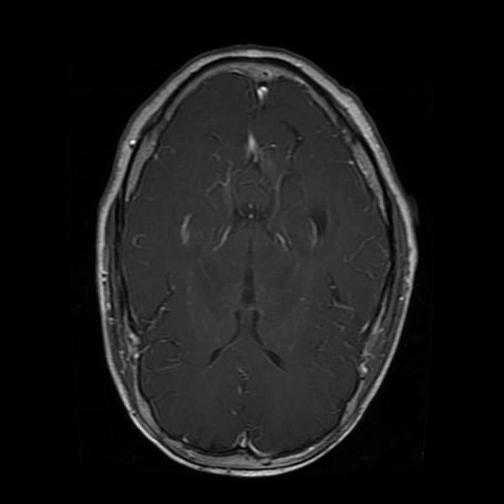Tumour-Glioma: (354, 218, 418, 306)
